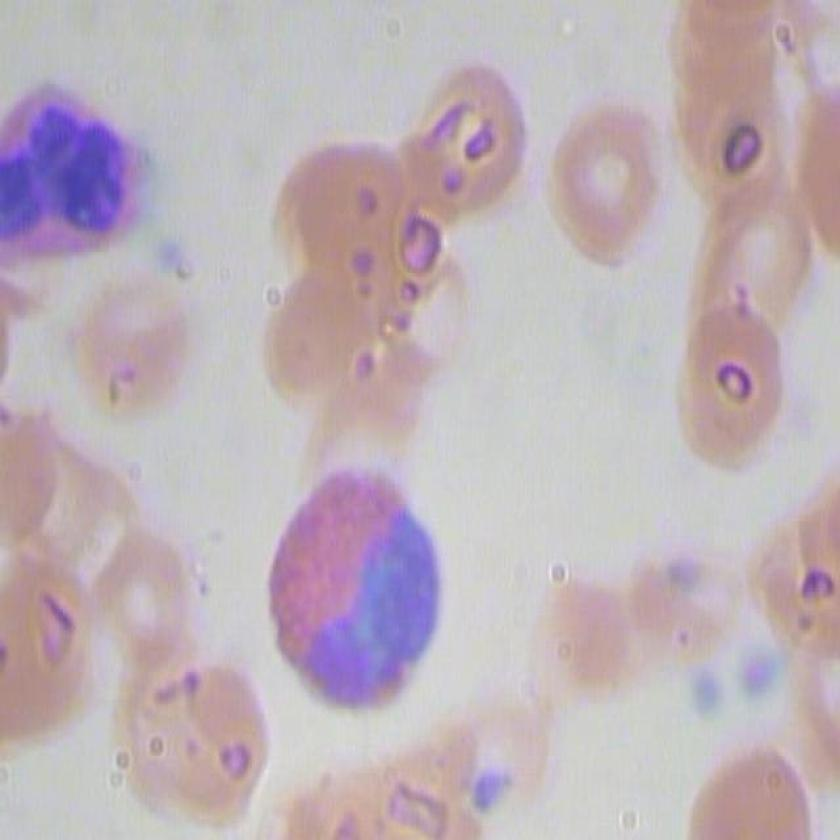eosinophil: (262, 459, 449, 719), (1, 77, 153, 266)
